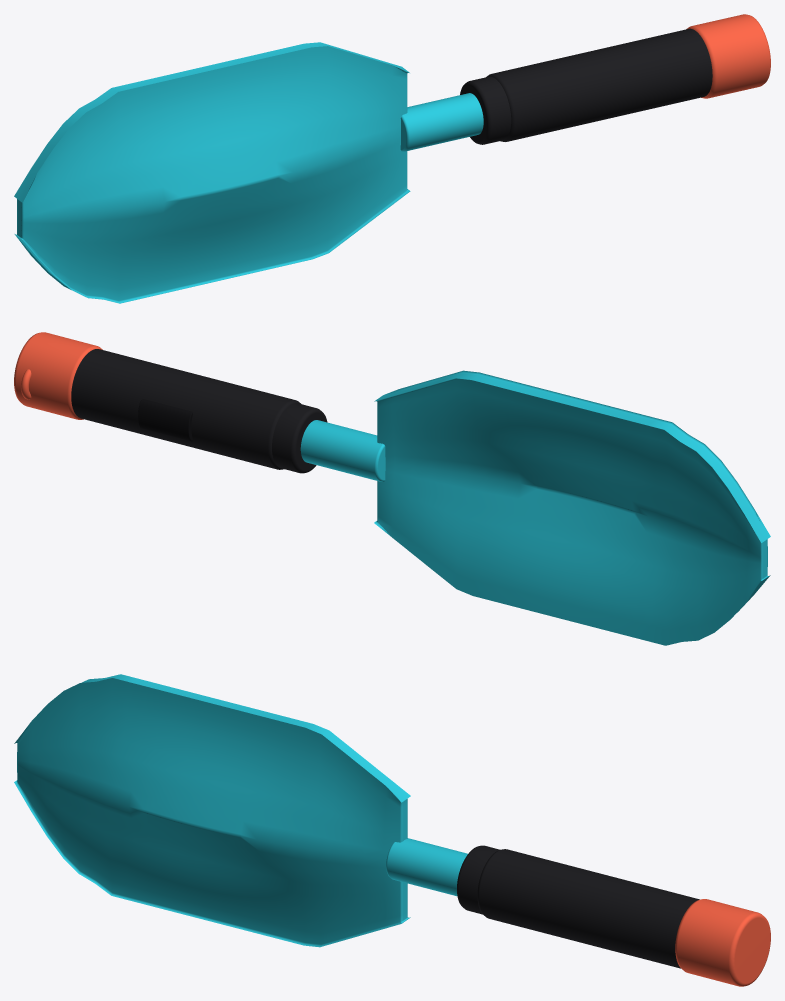
Rendered from trowel.glb.
3 views of the same model, one above another, from view 1: azimuth 30°, elevation 25°; view 2: azimuth 150°, elevation 25°; view 3: azimuth 330°, elevation 25° (orthographic). The views are drawn at different scales.
Visible parts, largest first — view 1: SM_Garden_Trowel_Dark_Handle_Hole.001; view 2: SM_Garden_Trowel_Dark_Handle_Hole.001; view 3: SM_Garden_Trowel_Dark_Handle_Hole.001.
Boxes of the visible parts, x1,y1,x2,y2 form: SM_Garden_Trowel_Dark_Handle_Hole.001: (14, 14, 770, 303); SM_Garden_Trowel_Dark_Handle_Hole.001: (14, 332, 770, 645); SM_Garden_Trowel_Dark_Handle_Hole.001: (14, 674, 770, 986).
Size of the model in its own units: 0.36 by 0.1008 by 0.0356.
